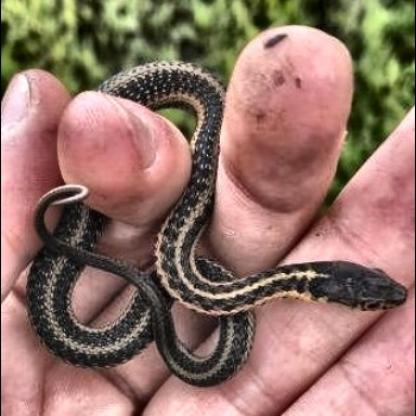Snake: (19, 19, 413, 387)
